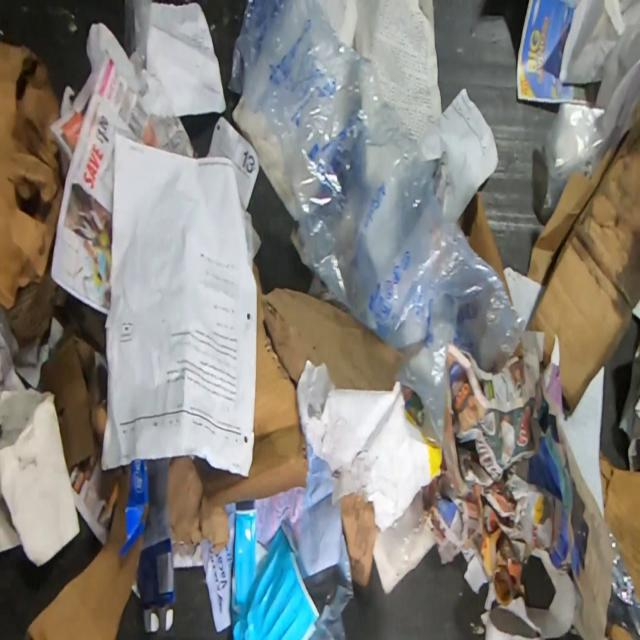cardboard: (166, 290, 306, 556), (526, 108, 640, 414), (23, 459, 148, 639), (254, 263, 406, 390), (0, 38, 64, 311), (40, 337, 107, 471), (135, 461, 177, 633), (457, 190, 513, 305), (599, 449, 640, 603), (340, 492, 380, 586), (607, 622, 638, 639)
rigid_plastic: (231, 509, 320, 639), (609, 530, 639, 610)
soft_plastic: (232, 0, 539, 463), (539, 15, 640, 226), (123, 0, 195, 156), (373, 490, 437, 594), (302, 524, 355, 640)
